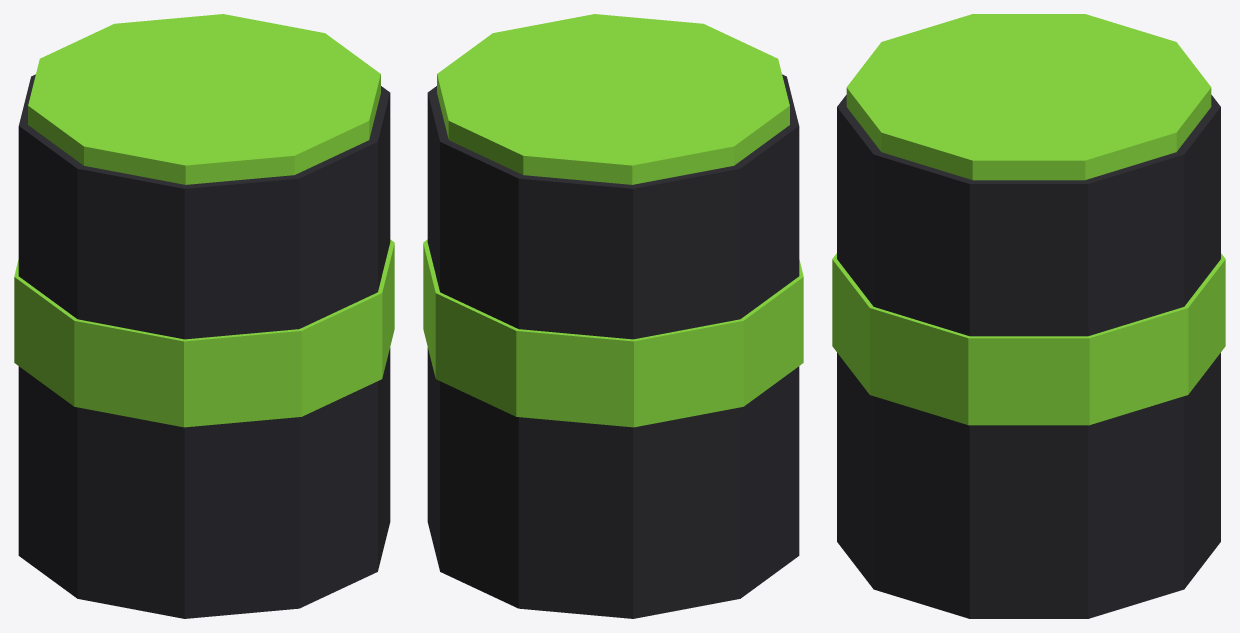
Rendered from toxic_barrel.glb.
3 renders of one model, left to right at view 1: azimuth 30°, elevation 25°; view 2: azimuth 150°, elevation 25°; view 3: azimuth 270°, elevation 25°, orthographic.
Visible parts, largest first — view 1: toxic_barrel; view 2: toxic_barrel; view 3: toxic_barrel.
Boxes of the visible parts, x1=… form: toxic_barrel: x1=14, y1=14, x2=394, y2=618; toxic_barrel: x1=423, y1=14, x2=803, y2=618; toxic_barrel: x1=832, y1=14, x2=1225, y2=618.
Bounding box in the file's own units: 0.7799 × 1.04 × 0.82.
